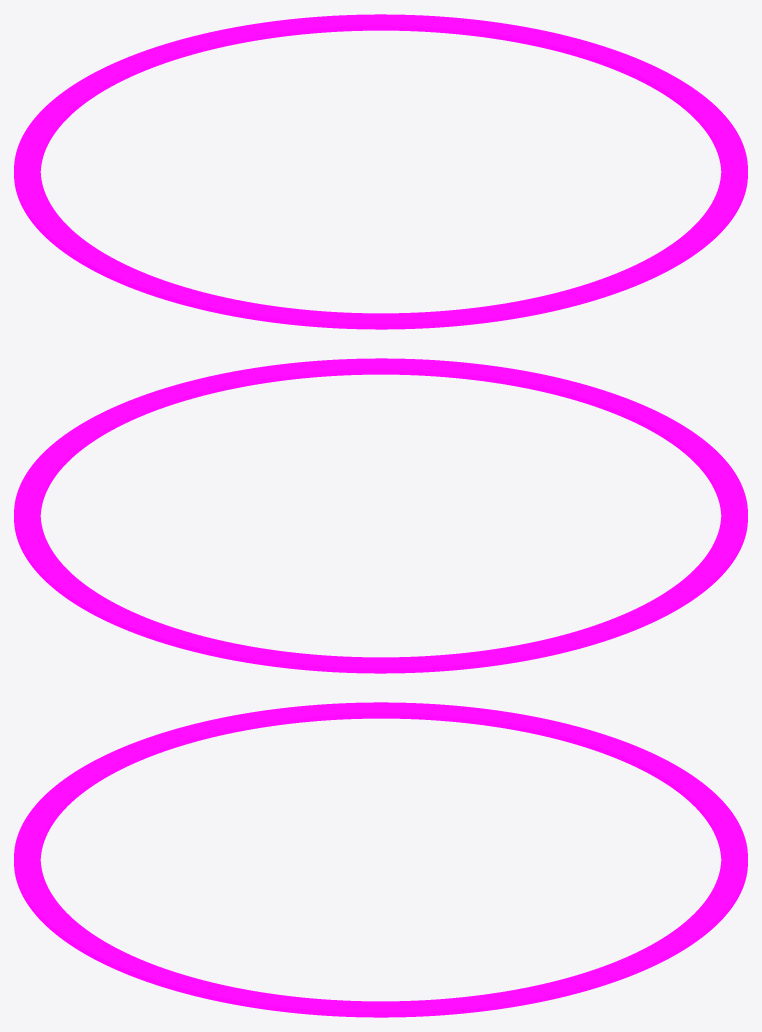
File: ring4.glb
3 renders of one model, top to bottom at view 1: azimuth 30°, elevation 25°; view 2: azimuth 150°, elevation 25°; view 3: azimuth 270°, elevation 25°, orthographic.
Parts seen in each view (by area): view 1: VisualSceneNode1.022; view 2: VisualSceneNode1.022; view 3: VisualSceneNode1.022.
Part boxes in pixels (x1,y1,x2,y2): VisualSceneNode1.022: [14, 14, 747, 329]; VisualSceneNode1.022: [14, 358, 747, 673]; VisualSceneNode1.022: [14, 702, 747, 1017].
Bounding box in the file's own units: 27.38 × 0.2 × 27.38.
